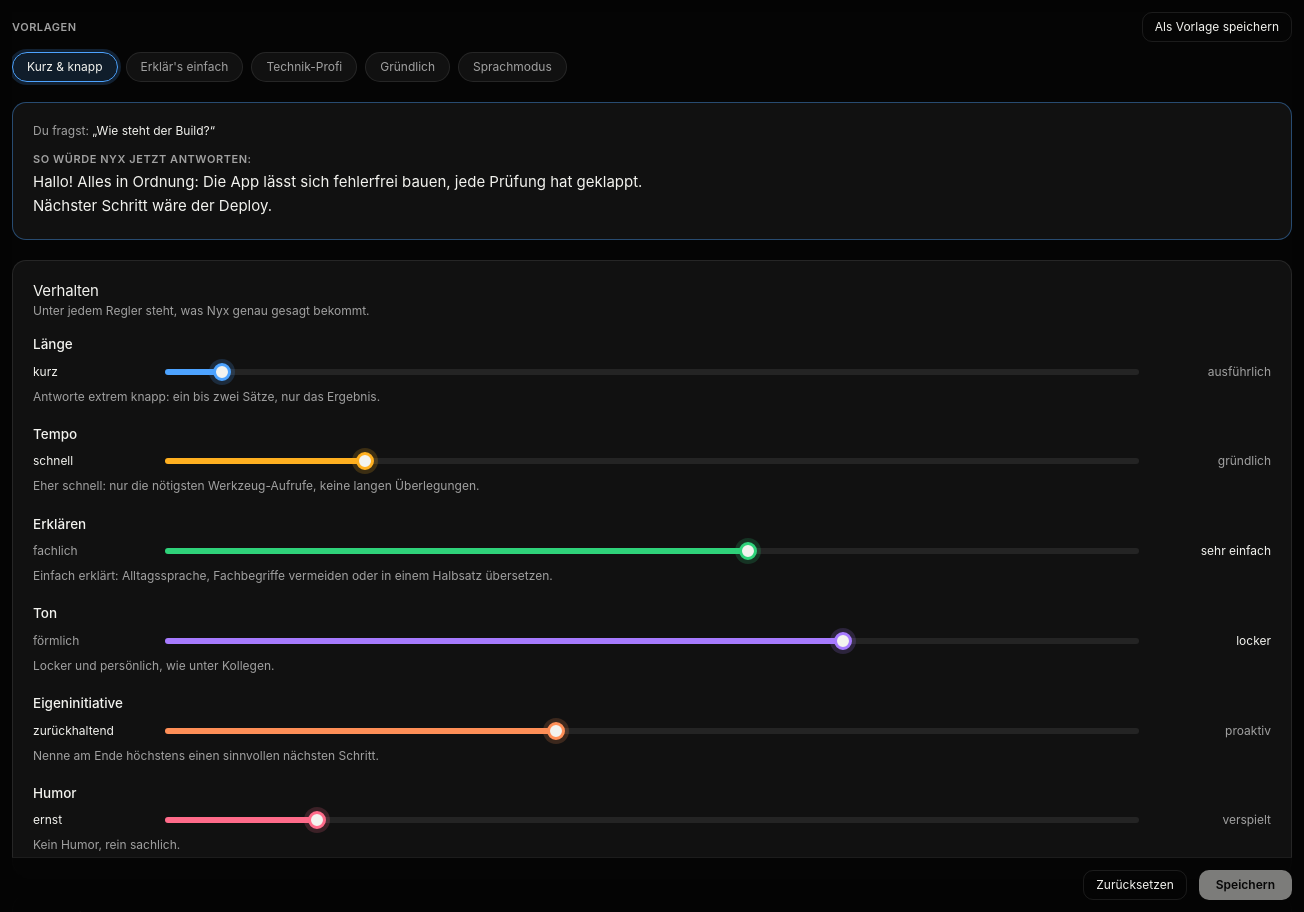
Scenario: Seite Einstellungen → Nyx › Regler von Hand: Vorlage nicht mehr aktiv; Zurücksetzen holt die Startwerte
Expected: the text with test id "nyx-preview" is shown, [33, 170, 695, 219]
Set the slider named "Länge" to "70" at (844, 372), box [165, 361, 1139, 383]
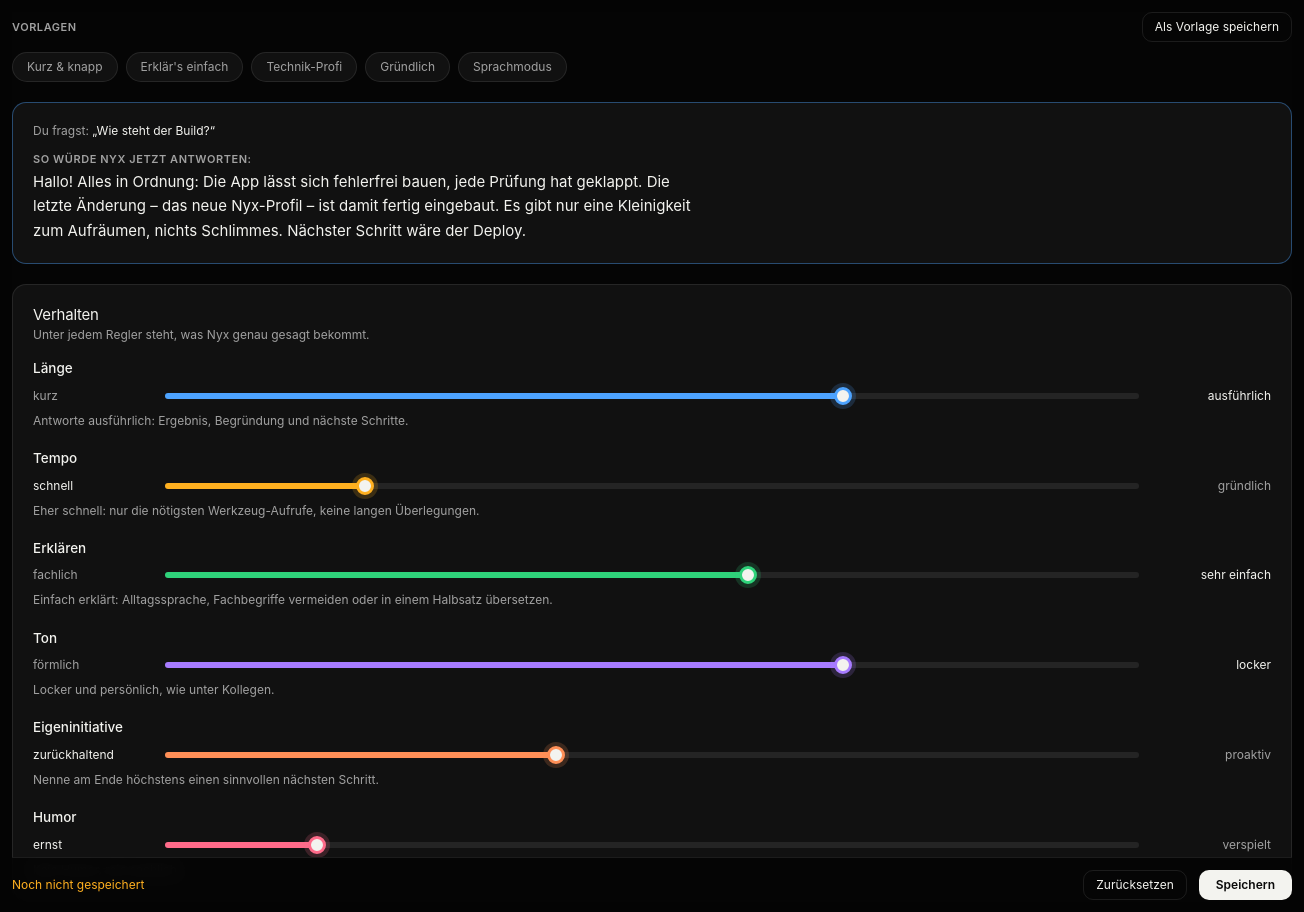
Now the button "Kurz & knapp" is not pressed, box [12, 52, 118, 82]
Click the button "Zurücksetzen" at (1135, 885), box [1083, 870, 1187, 900]
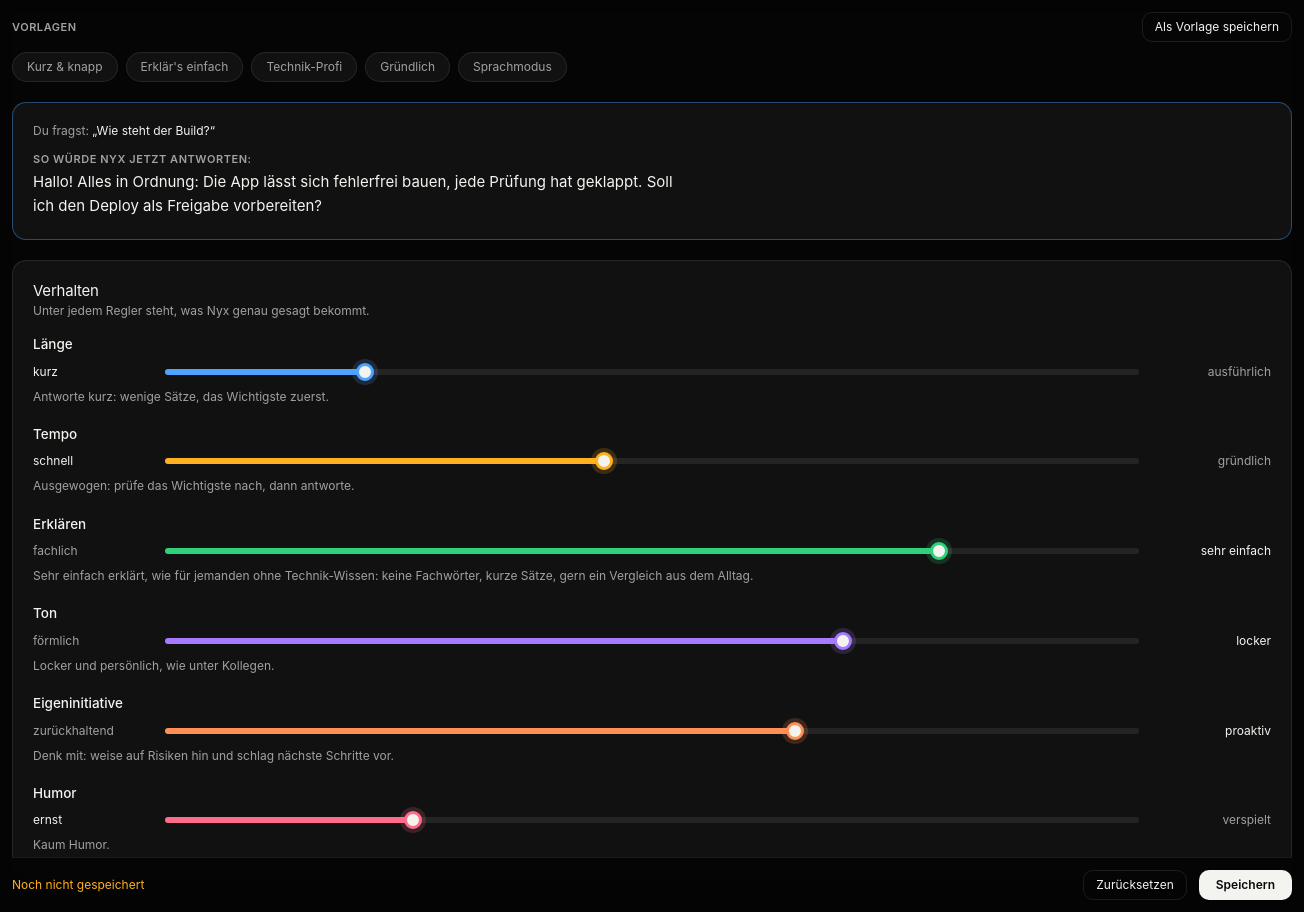
Now the slider named "Länge" holds "20", box [165, 361, 1139, 383]
